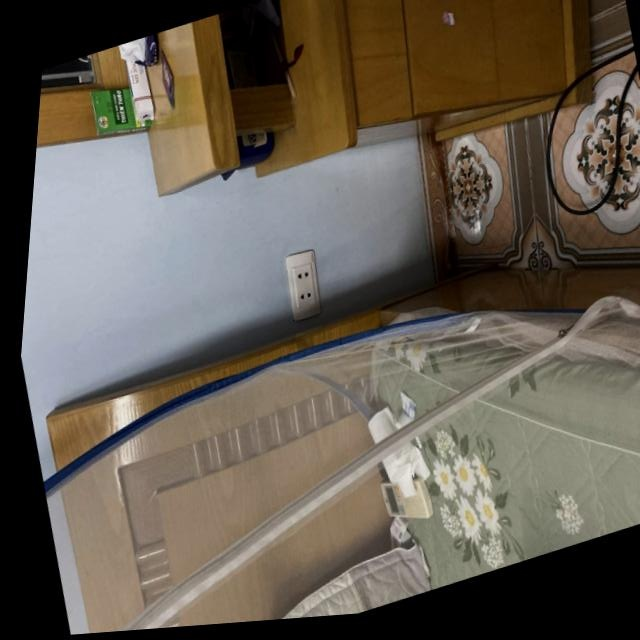outlet: (276, 247, 329, 326)
